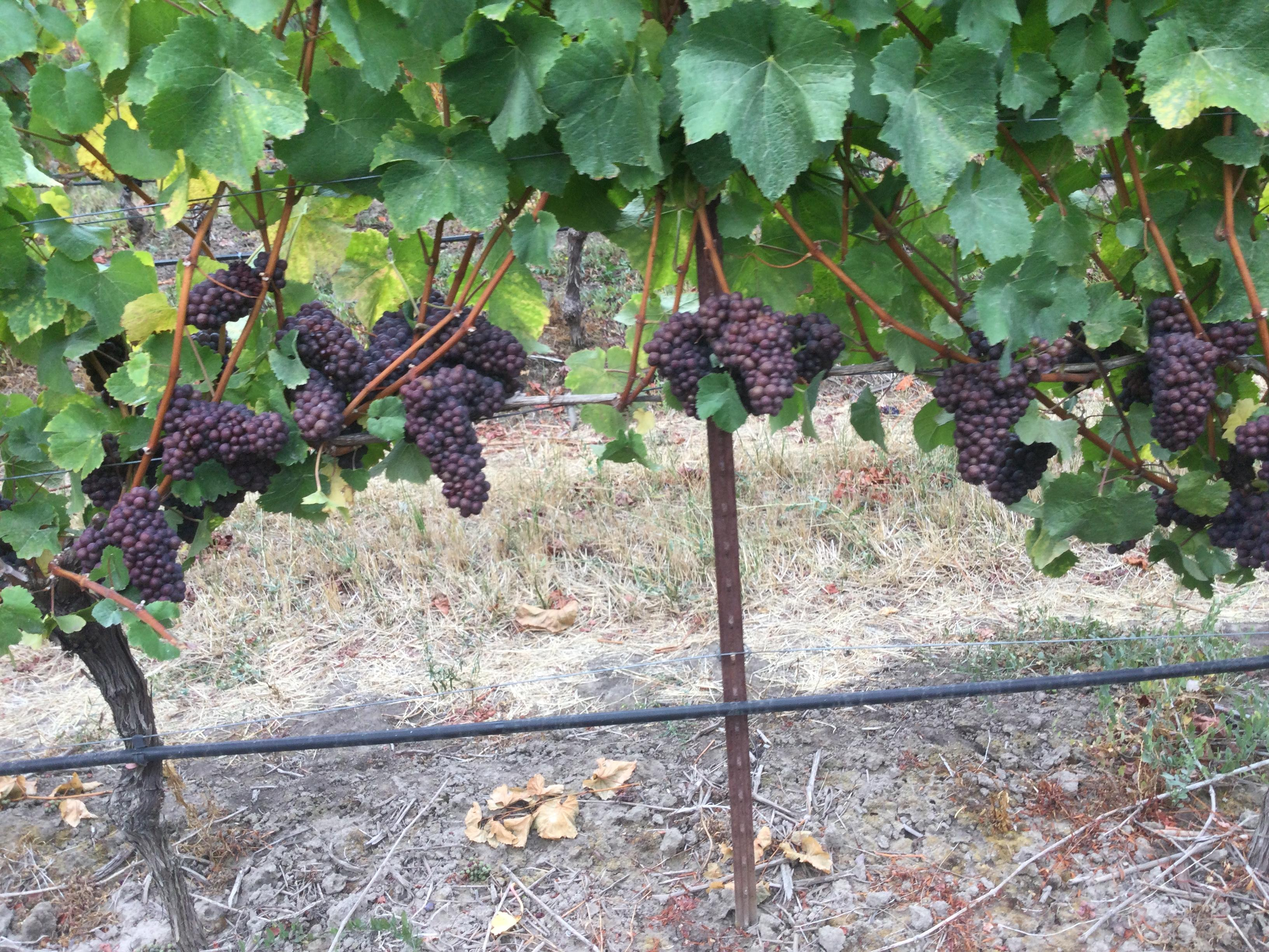leaf: (673, 2, 853, 197), (146, 17, 306, 184), (872, 37, 996, 206), (542, 19, 662, 177), (443, 4, 568, 149), (1138, 0, 1268, 127), (274, 67, 411, 182), (372, 122, 508, 231), (975, 251, 1088, 343), (46, 250, 158, 336), (947, 158, 1033, 262), (332, 229, 421, 327), (326, 0, 416, 91), (1042, 472, 1155, 543), (288, 196, 370, 282), (724, 239, 812, 312), (29, 61, 105, 135), (486, 261, 549, 348), (0, 262, 66, 342), (1059, 71, 1128, 145), (105, 332, 172, 405), (505, 126, 573, 195), (33, 203, 112, 260), (45, 404, 108, 475), (545, 175, 621, 233), (75, 0, 133, 76), (257, 459, 327, 521), (104, 120, 176, 179), (1013, 399, 1078, 460), (1050, 19, 1113, 80), (1000, 52, 1059, 117), (1084, 282, 1141, 348), (1177, 198, 1232, 266), (551, 0, 642, 40), (1033, 205, 1092, 266), (0, 498, 59, 558), (955, 0, 1021, 53), (1204, 116, 1268, 167), (171, 459, 238, 506), (696, 371, 747, 432), (1025, 518, 1077, 577), (120, 291, 177, 343), (0, 586, 42, 653), (121, 612, 179, 660), (0, 406, 49, 462), (1173, 469, 1231, 516), (369, 441, 431, 484), (512, 211, 559, 265), (1206, 264, 1250, 320), (849, 386, 886, 451), (267, 330, 309, 387), (0, 0, 38, 61), (596, 429, 654, 468), (912, 399, 954, 452), (0, 209, 27, 288), (178, 339, 221, 383), (832, 0, 895, 30), (222, 0, 285, 30), (364, 396, 405, 442), (1106, 0, 1149, 42), (1042, 0, 1096, 25), (1241, 239, 1268, 288), (1234, 202, 1252, 234), (635, 2, 639, 26), (1131, 219, 1142, 227), (397, 443, 412, 448), (693, 4, 699, 16), (1037, 242, 1044, 246), (1050, 206, 1055, 211), (1136, 238, 1140, 244), (1261, 290, 1263, 301), (350, 183, 356, 186), (5, 117, 7, 124), (1166, 288, 1170, 291), (87, 261, 91, 264), (1023, 499, 1028, 501), (92, 264, 94, 268), (1148, 0, 1152, 2), (577, 30, 580, 32), (54, 254, 56, 257), (1124, 242, 1127, 244), (1222, 255, 1224, 257), (1128, 245, 1132, 246), (11, 397, 12, 400), (1121, 238, 1122, 240), (367, 183, 368, 183), (509, 18, 509, 18), (1152, 209, 1152, 210)
